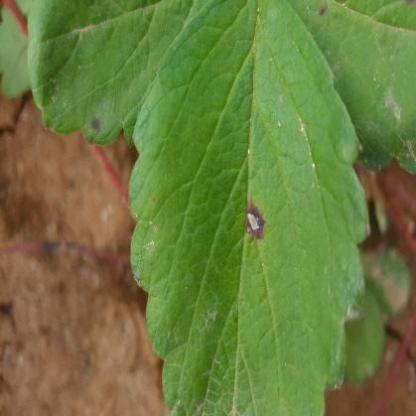Strawberry_Leaf_Spot: (127, 0, 370, 415), (26, 0, 208, 151), (287, 0, 415, 174)
